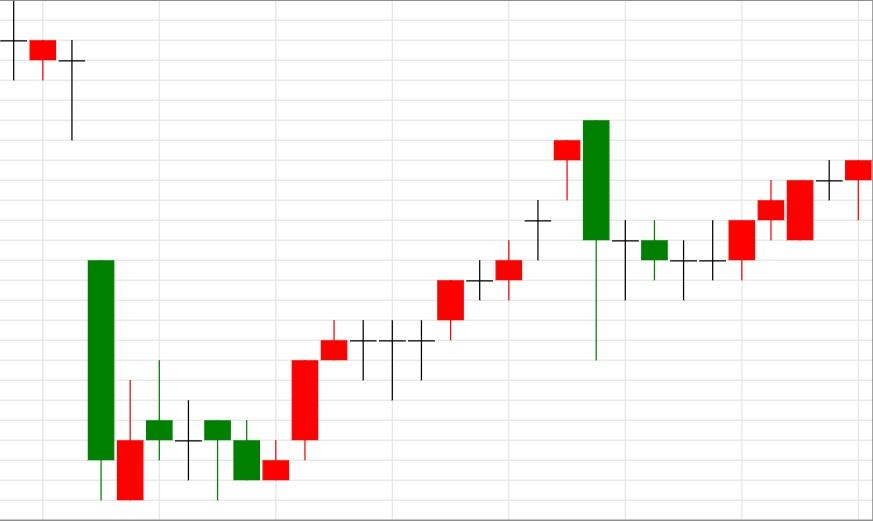bearish_engulfing_fall: (261, 120, 610, 481)
three_white_soldiers_rise: (145, 318, 349, 500)
